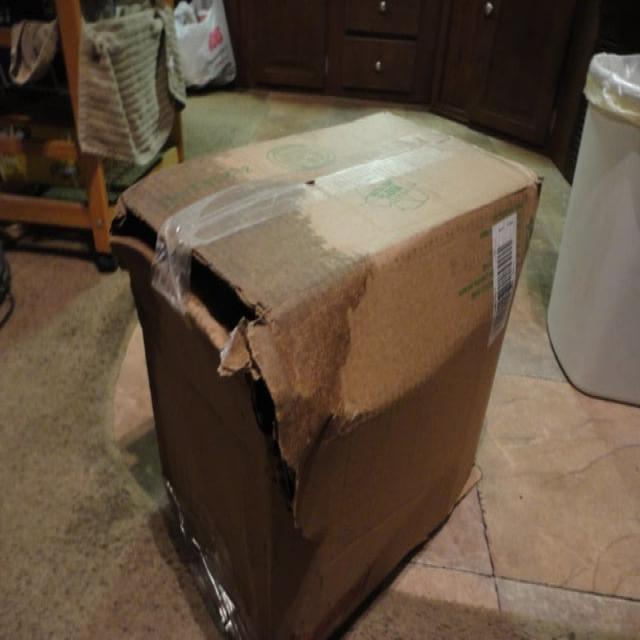wet: (123, 157, 367, 530)
